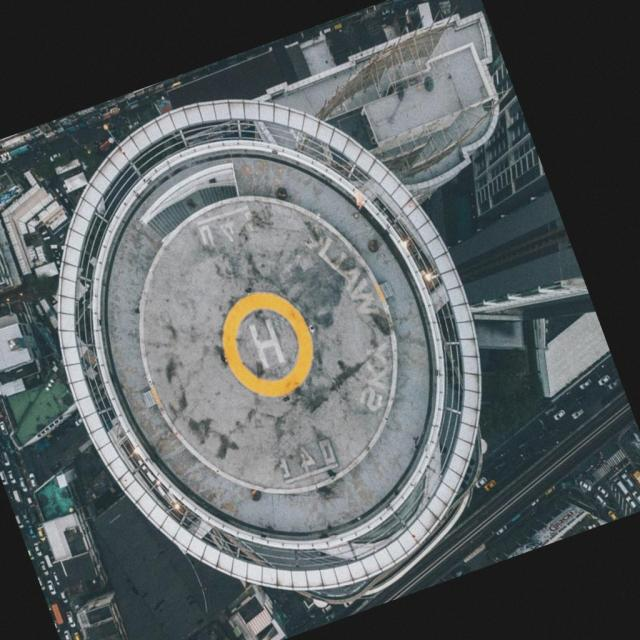helipad: (220, 286, 317, 400)
